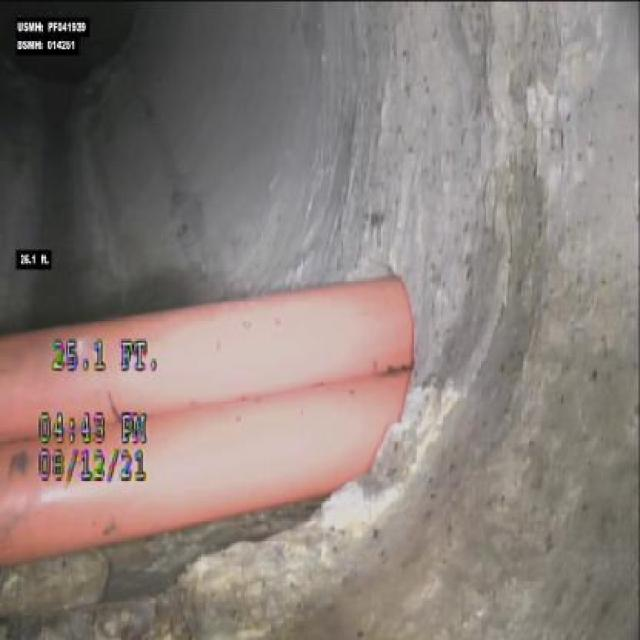Utility intrusion: (5, 270, 417, 572)
